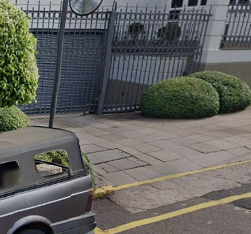vag5: (88, 132, 249, 186)
